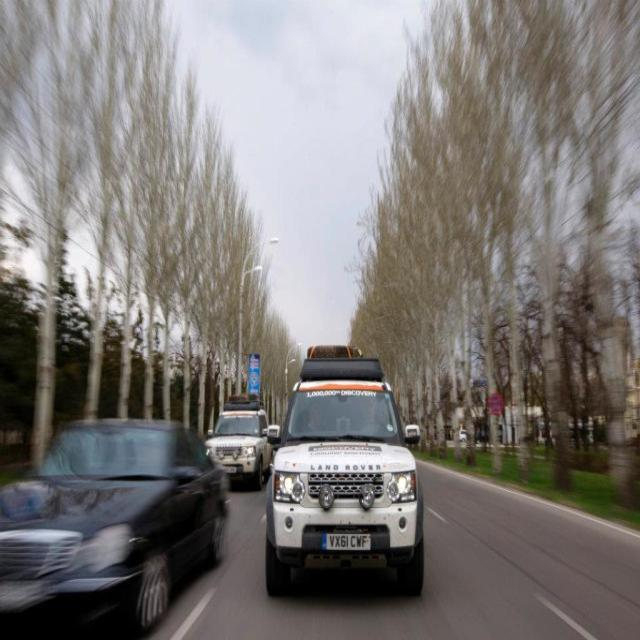car: (262, 338, 426, 600)
